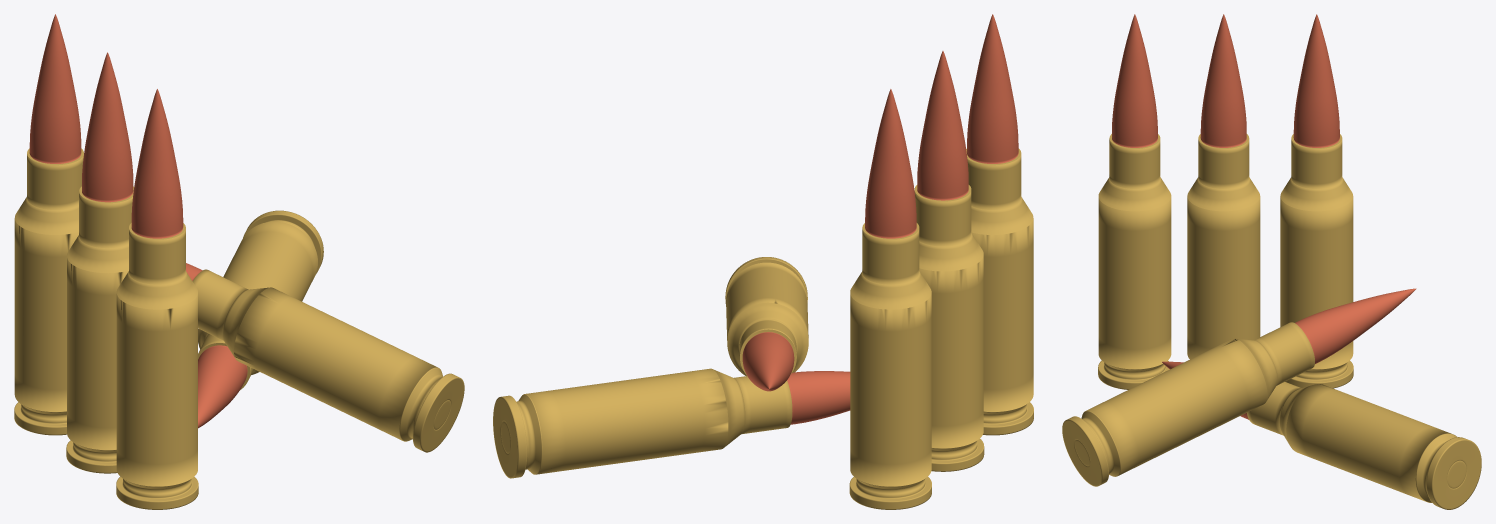
Rendered from AK-47 bullet.fbx.
3 renders of one model, left to right at view 1: azimuth 30°, elevation 25°; view 2: azimuth 150°, elevation 25°; view 3: azimuth 270°, elevation 25°, orthographic. The views are drawn at different scales.
Parts seen in each view (by area): view 1: Cylinder, Cylinder.004, Cylinder.002, Cylinder.001, Cylinder.003; view 2: Cylinder.002, Cylinder.003, Cylinder.001, Cylinder, Cylinder.004; view 3: Cylinder.004, Cylinder, Cylinder.001, Cylinder.002, Cylinder.003.
Boxes of the visible parts, x1,y1,x2,y2 form: Cylinder: (116, 89, 198, 509); Cylinder.004: (186, 263, 464, 452); Cylinder.002: (14, 14, 83, 435); Cylinder.001: (66, 52, 134, 473); Cylinder.003: (198, 210, 323, 428); Cylinder.002: (849, 89, 931, 509); Cylinder.003: (493, 368, 850, 478); Cylinder.001: (914, 51, 984, 471); Cylinder: (966, 14, 1033, 435); Cylinder.004: (725, 257, 808, 391); Cylinder.004: (1062, 288, 1416, 486); Cylinder: (1098, 14, 1171, 389); Cylinder.001: (1187, 14, 1260, 359); Cylinder.002: (1280, 14, 1353, 388); Cylinder.003: (1162, 361, 1481, 509).
Size of what is drawn, in the model's own units: 407 by 427 by 450.
